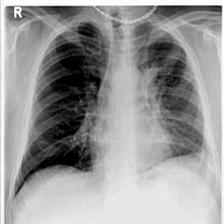tuberculosis: (10, 17, 218, 203)
